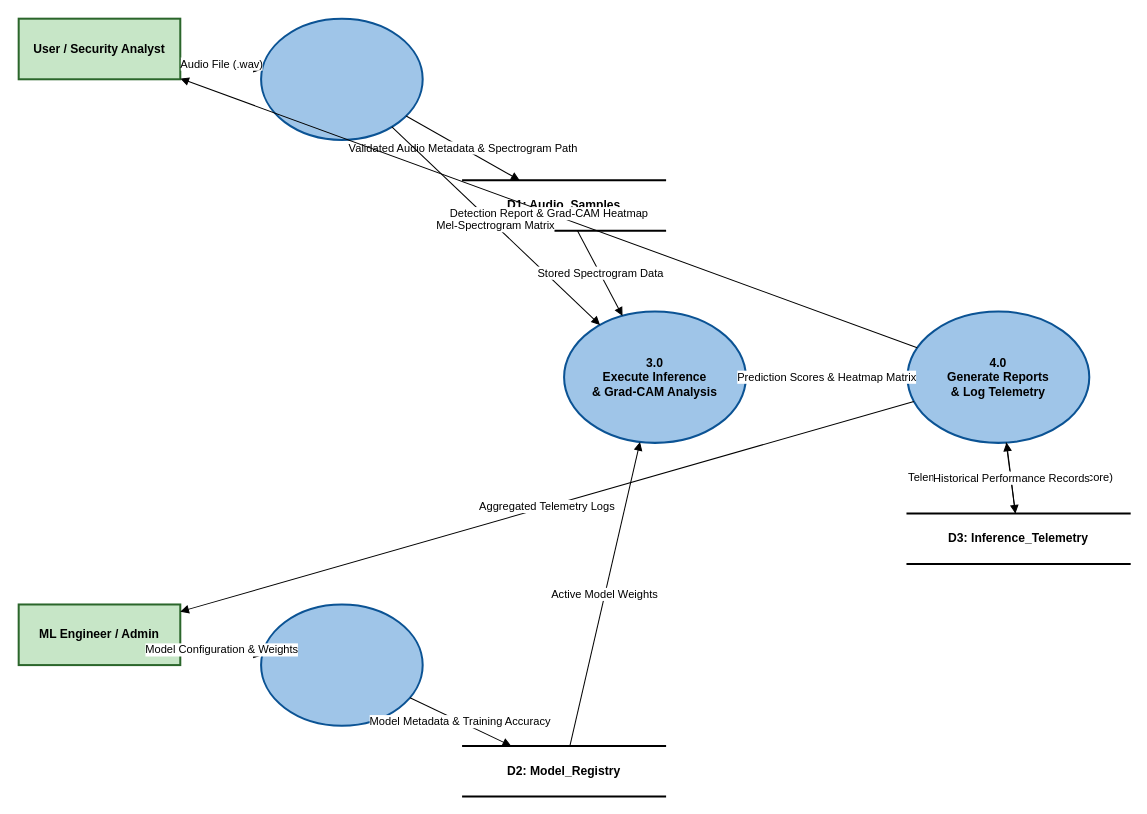
This 1147x814 diagram has some shape labels left out. The centre of each missing label's shape, as x and y in pixels:
1.0 Ingest & Preprocess Audio Sample: point (341, 78)
2.0 Register & Load CNN Model: point (341, 664)
